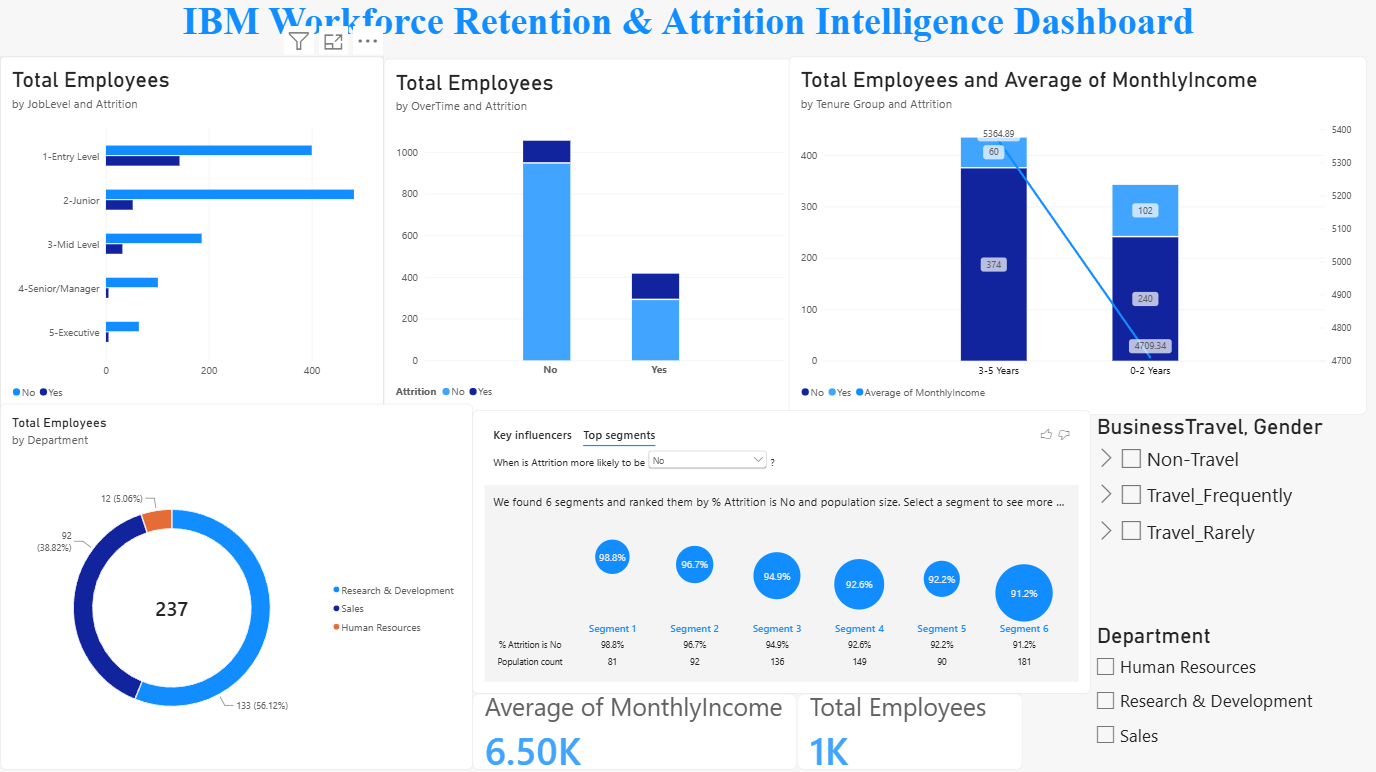

What the dashboard file says about the page in this screenshot:
{"tool":"powerbi","page":{"name":"Page 1","canvas":[1920,1080],"ordinal":0},"visuals":[{"type":"textbox","box":[240,0,1440,78],"z":0},{"type":"clusteredBarChart","fields":{"Category":["PowerBI_Ready_IBM_HR (1).JobLevel"],"Series":["PowerBI_Ready_IBM_HR (1).Attrition"],"Y":["PowerBI_Ready_IBM_HR (1).Total Employees"]},"box":[0,78,536,500],"z":1000},{"type":"columnChart","fields":{"Category":["PowerBI_Ready_IBM_HR (1).OverTime"],"Series":["PowerBI_Ready_IBM_HR (1).Attrition"],"Y":["PowerBI_Ready_IBM_HR (1).Total Employees"]},"box":[536,82,576,496],"z":2000},{"type":"lineStackedColumnComboChart","fields":{"Category":["PowerBI_Ready_IBM_HR (1).Tenure Group"],"Series":["PowerBI_Ready_IBM_HR (1).Attrition"],"Y":["PowerBI_Ready_IBM_HR (1).Total Employees"],"Y2":["Avg(PowerBI_Ready_IBM_HR (1).MonthlyIncome)"]},"box":[1100,78,806,500],"z":3000},{"type":"slicer","fields":{"Values":["PowerBI_Ready_IBM_HR (1).Department"]},"box":[1522,868,360,202],"z":4000},{"type":"slicer","fields":{"Values":["PowerBI_Ready_IBM_HR (1).BusinessTravel","PowerBI_Ready_IBM_HR (1).Gender"]},"box":[1522,578,360,290],"z":5000},{"type":"donutChart","fields":{"Category":["PowerBI_Ready_IBM_HR (1).Department"],"Y":["PowerBI_Ready_IBM_HR (1).Total Employees"]},"box":[0,564,660,510],"z":6000},{"type":"cardVisual","fields":{"Data":["PowerBI_Ready_IBM_HR (1).Total Employees"]},"box":[1112,968,314,106],"z":7000},{"type":"cardVisual","fields":{"Data":["Avg(PowerBI_Ready_IBM_HR (1).MonthlyIncome)"]},"box":[660,968,452,106],"z":8000},{"type":"keyDriversVisual","fields":{"ExplainBy":["PowerBI_Ready_IBM_HR (1).JobRole","PowerBI_Ready_IBM_HR (1).EnvironmentSatisfaction","Sum(PowerBI_Ready_IBM_HR (1).MonthlyIncome)","PowerBI_Ready_IBM_HR (1).OverTime"],"Target":["PowerBI_Ready_IBM_HR (1).Attrition"]},"box":[660,572,862,396],"z":9000}]}

Visuals, with their boxes on the page's 1920x1080 design canvas (x1, y1, x2, y2). These are canvas units, not pixel positions in the 1376x772 screenshot, which may show the page scaled, cropped or inside an application window:
textbox: (x1=240, y1=0, x2=1680, y2=78)
clusteredBarChart - PowerBI_Ready_IBM_HR (1).JobLevel x PowerBI_Ready_IBM_HR (1).Attrition: (x1=0, y1=78, x2=536, y2=578)
columnChart - PowerBI_Ready_IBM_HR (1).OverTime x PowerBI_Ready_IBM_HR (1).Attrition: (x1=536, y1=82, x2=1112, y2=578)
lineStackedColumnComboChart - PowerBI_Ready_IBM_HR (1).Tenure Group x PowerBI_Ready_IBM_HR (1).Attrition: (x1=1100, y1=78, x2=1906, y2=578)
slicer - PowerBI_Ready_IBM_HR (1).Department: (x1=1522, y1=868, x2=1882, y2=1070)
slicer - PowerBI_Ready_IBM_HR (1).BusinessTravel x PowerBI_Ready_IBM_HR (1).Gender: (x1=1522, y1=578, x2=1882, y2=868)
donutChart - PowerBI_Ready_IBM_HR (1).Department x PowerBI_Ready_IBM_HR (1).Total Employees: (x1=0, y1=564, x2=660, y2=1074)
cardVisual - PowerBI_Ready_IBM_HR (1).Total Employees: (x1=1112, y1=968, x2=1426, y2=1074)
cardVisual - Avg(PowerBI_Ready_IBM_HR (1).MonthlyIncome): (x1=660, y1=968, x2=1112, y2=1074)
keyDriversVisual - PowerBI_Ready_IBM_HR (1).JobRole x PowerBI_Ready_IBM_HR (1).EnvironmentSatisfaction: (x1=660, y1=572, x2=1522, y2=968)
